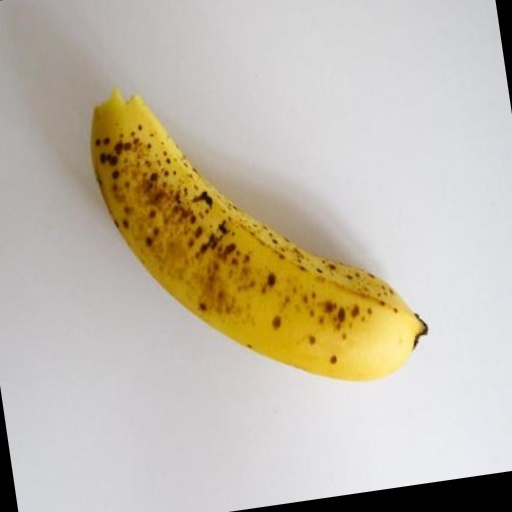fruit: (91, 90, 426, 380)
